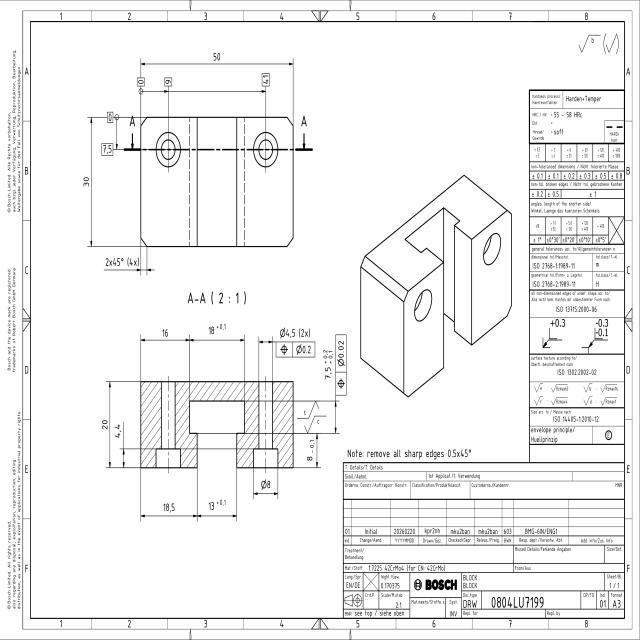dimension: (104, 255, 140, 269), (279, 325, 311, 339), (322, 348, 334, 380), (207, 322, 227, 336), (207, 498, 227, 512), (306, 437, 316, 462), (102, 143, 114, 156), (162, 501, 175, 513), (114, 422, 122, 440), (81, 175, 91, 189), (100, 418, 110, 432), (260, 478, 270, 492), (212, 50, 222, 63), (262, 73, 270, 86), (106, 112, 114, 124), (162, 327, 169, 339), (137, 77, 145, 87), (165, 77, 172, 86)
